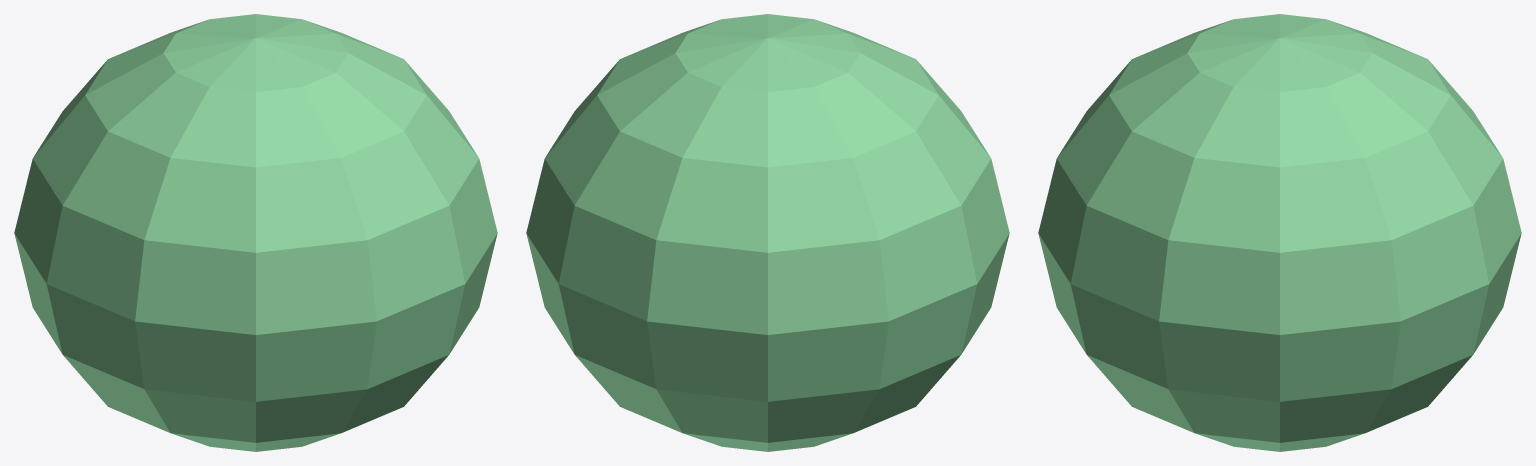
Rendered from slime_head.fbx.
3 renders of one model, left to right at view 1: azimuth 30°, elevation 25°; view 2: azimuth 150°, elevation 25°; view 3: azimuth 270°, elevation 25°, orthographic.
Visible parts, largest first — view 1: slime_head_geo; view 2: slime_head_geo; view 3: slime_head_geo.
Part boxes in pixels (x1,y1,x2,y2): slime_head_geo: [14, 14, 497, 451]; slime_head_geo: [526, 14, 1009, 451]; slime_head_geo: [1038, 14, 1521, 451].
Size of the model in its own units: 36 by 32 by 36.
